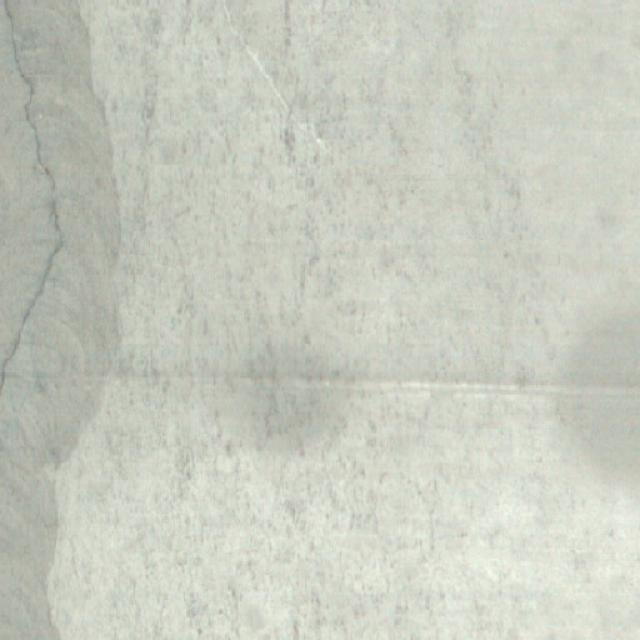Longitudinal: (0, 3, 73, 388)
Radial: (15, 416, 70, 640)
